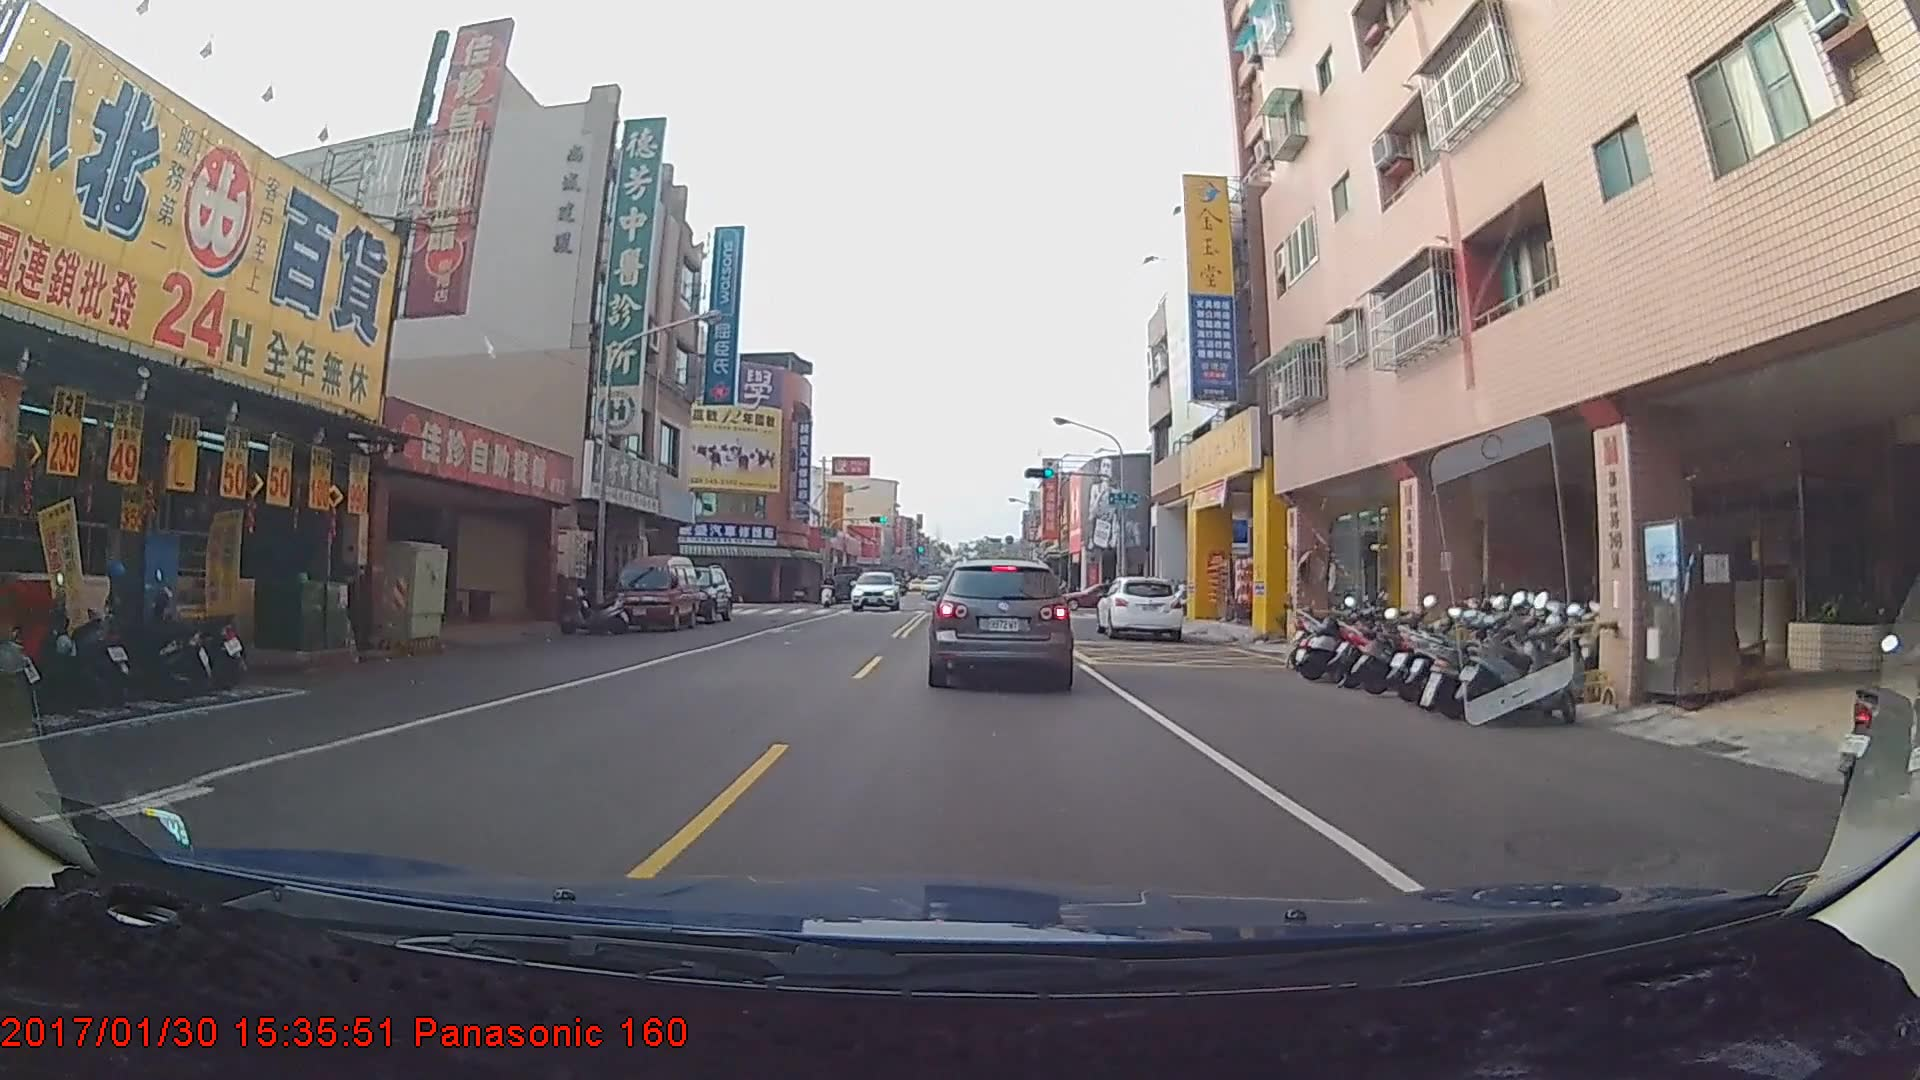rider: (821, 570, 842, 605)
vehicle: (931, 555, 1072, 687), (609, 563, 699, 638), (1096, 574, 1183, 642), (662, 563, 734, 625), (848, 576, 889, 611)
